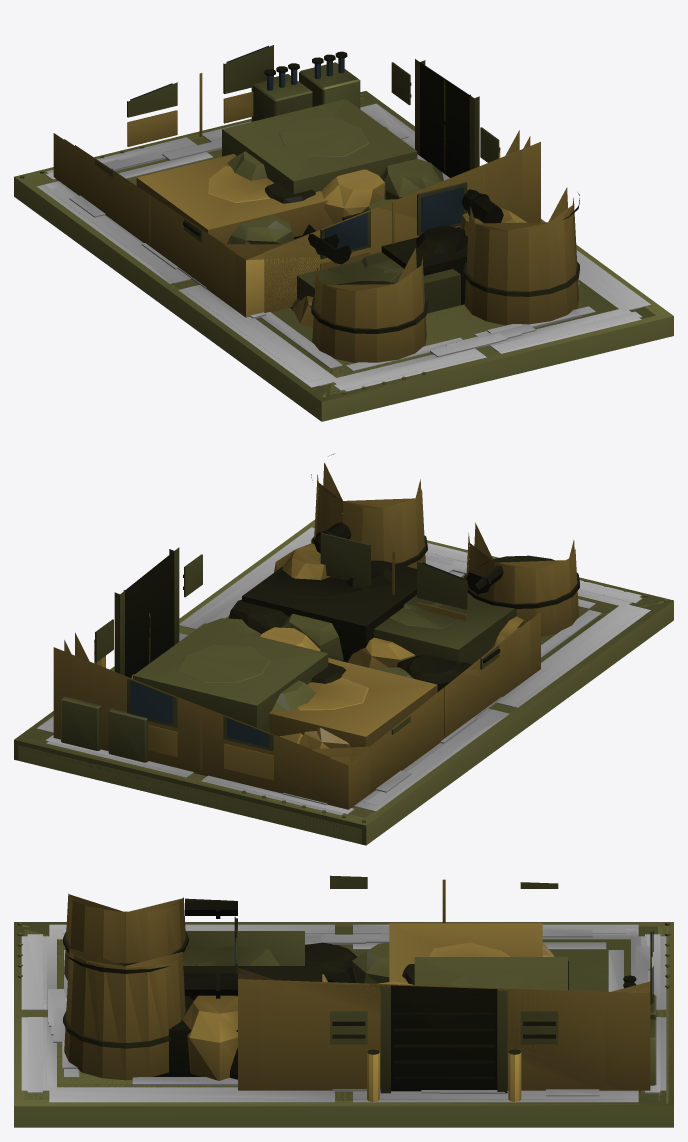
File: meridian_power_plant_heavily_damaged.glb
3 renders of one model, top to bottom at view 1: azimuth 30°, elevation 25°; view 2: azimuth 150°, elevation 25°; view 3: azimuth 270°, elevation 25°, orthographic. The views are drawn at different scales.
Parts seen in each view (by area): view 1: body (×3); view 2: body (×3); view 3: body (×3).
Part boxes in pixels (x1,y1,x2,y2): body (×3): (14, 45, 673, 421); body (×3): (14, 453, 673, 845); body (×3): (14, 875, 673, 1127).
Size of the model in its own units: 7.4 by 2.51 by 11.2.
